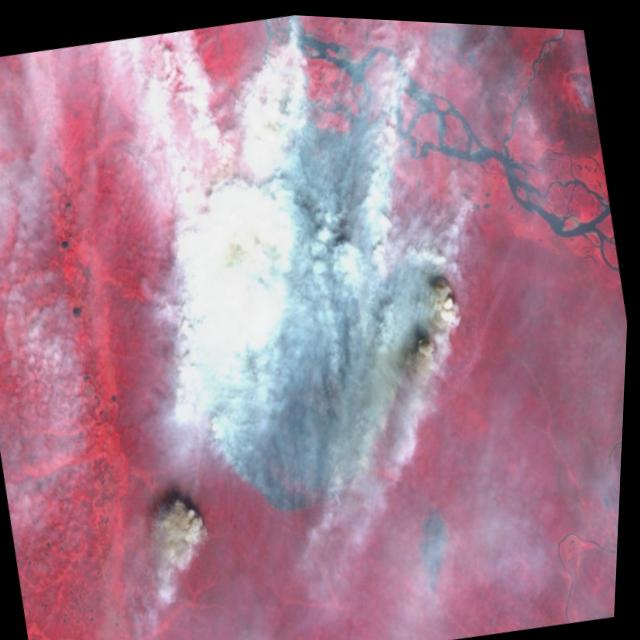fire: (79, 35, 524, 592)
